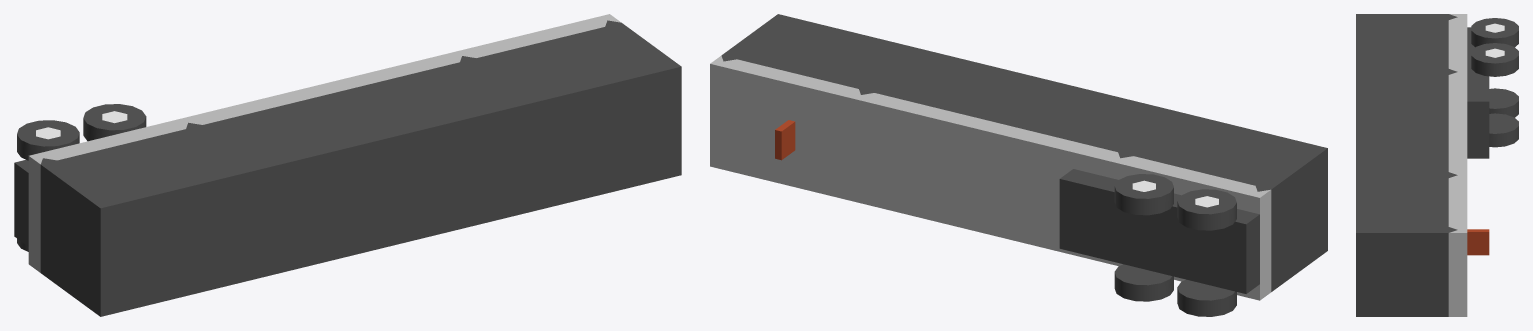
Rendered from trailer_3.dae.
3 views of the same model, side by side, from view 1: azimuth 30°, elevation 25°; view 2: azimuth 150°, elevation 25°; view 3: azimuth 270°, elevation 25° (orthographic). The views are drawn at different scales.
Visible parts, largest first — view 1: coords_ME_ID19_MA_material, coords_ME_ID3_MA_material_11, coords_ME_ID35_MA_material; view 2: coords_ME_ID3_MA_material_11, coords_ME_ID19_MA_material, coords_ME_ID35_MA_material, coords_ME_ID11_MA_material_14; view 3: coords_ME_ID19_MA_material, coords_ME_ID35_MA_material, coords_ME_ID3_MA_material_11, coords_ME_ID11_MA_material_14, coords_ME_ID47_MA_material_25, coords_ME_ID53_MA_material_25.
Boxes of the visible parts, x1=… form: coords_ME_ID19_MA_material: x1=40, y1=20, x2=681, y2=316; coords_ME_ID3_MA_material_11: x1=28, y1=14, x2=620, y2=272; coords_ME_ID35_MA_material: x1=14, y1=104, x2=146, y2=251; coords_ME_ID3_MA_material_11: x1=710, y1=55, x2=1271, y2=300; coords_ME_ID19_MA_material: x1=721, y1=14, x2=1327, y2=291; coords_ME_ID35_MA_material: x1=1059, y1=169, x2=1259, y2=316; coords_ME_ID11_MA_material_14: x1=775, y1=120, x2=795, y2=160; coords_ME_ID19_MA_material: x1=1356, y1=14, x2=1457, y2=316; coords_ME_ID35_MA_material: x1=1467, y1=18, x2=1518, y2=158; coords_ME_ID3_MA_material_11: x1=1448, y1=14, x2=1467, y2=316; coords_ME_ID11_MA_material_14: x1=1467, y1=229, x2=1489, y2=255; coords_ME_ID47_MA_material_25: x1=1485, y1=23, x2=1504, y2=32; coords_ME_ID53_MA_material_25: x1=1485, y1=48, x2=1504, y2=57.
Size of the model in its own units: 95.24 by 17.01 by 29.9.
